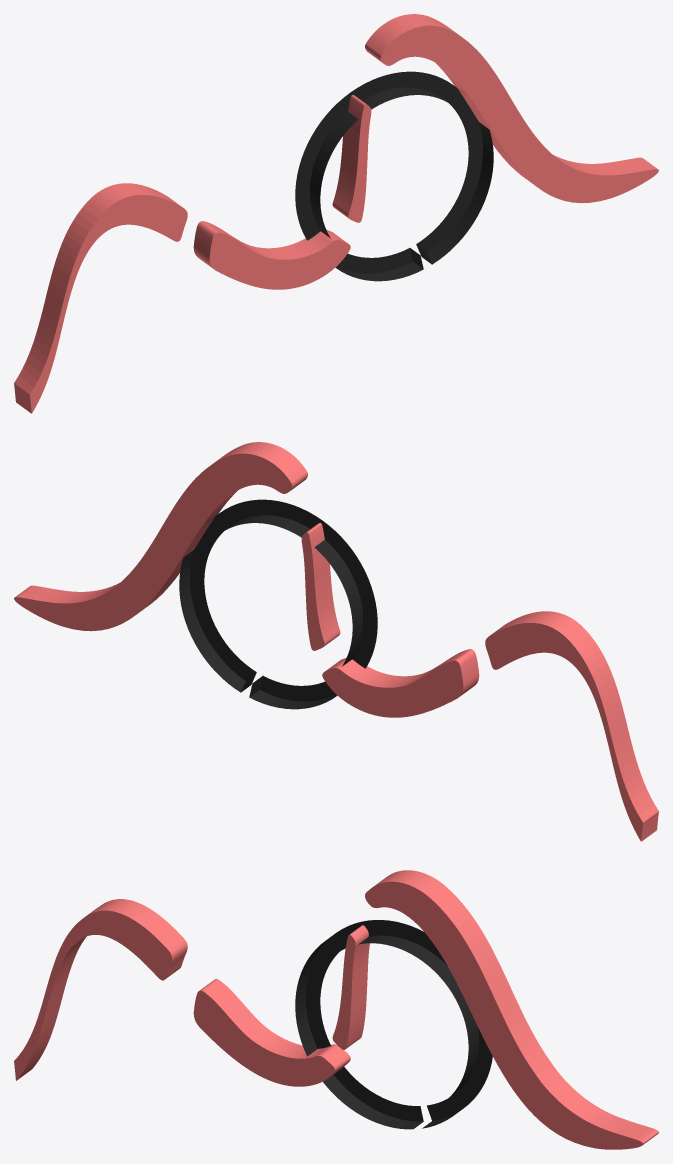
The model's file is add_loop_black.glb.
3 views of the same model, one above another, from view 1: azimuth 30°, elevation 25°; view 2: azimuth 150°, elevation 25°; view 3: azimuth 330°, elevation 25° (orthographic).
Parts seen in each view (by area): view 1: shape_03, virtual_loop_black, shape_00, shape_01, shape_02; view 2: shape_03, virtual_loop_black, shape_00, shape_01, shape_02; view 3: shape_03, virtual_loop_black, shape_00, shape_01, shape_02.
Boxes of the visible parts, <box> form: shape_03: <box>365,14,658,203</box>; virtual_loop_black: <box>295,71,493,281</box>; shape_00: <box>14,183,187,413</box>; shape_01: <box>193,221,350,289</box>; shape_02: <box>332,95,371,222</box>; shape_03: <box>14,442,307,631</box>; virtual_loop_black: <box>179,499,377,709</box>; shape_00: <box>485,611,658,841</box>; shape_01: <box>322,649,479,717</box>; shape_02: <box>301,523,340,650</box>; shape_03: <box>365,870,658,1149</box>; virtual_loop_black: <box>295,920,492,1129</box>; shape_00: <box>14,899,187,1080</box>; shape_01: <box>193,979,350,1086</box>; shape_02: <box>332,925,369,1049</box>.
Bounding box in the file's own units: 6.9 × 3.06 × 0.3.
